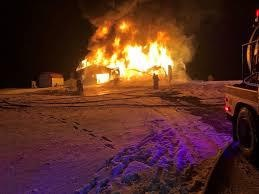fire: (79, 24, 173, 81)
